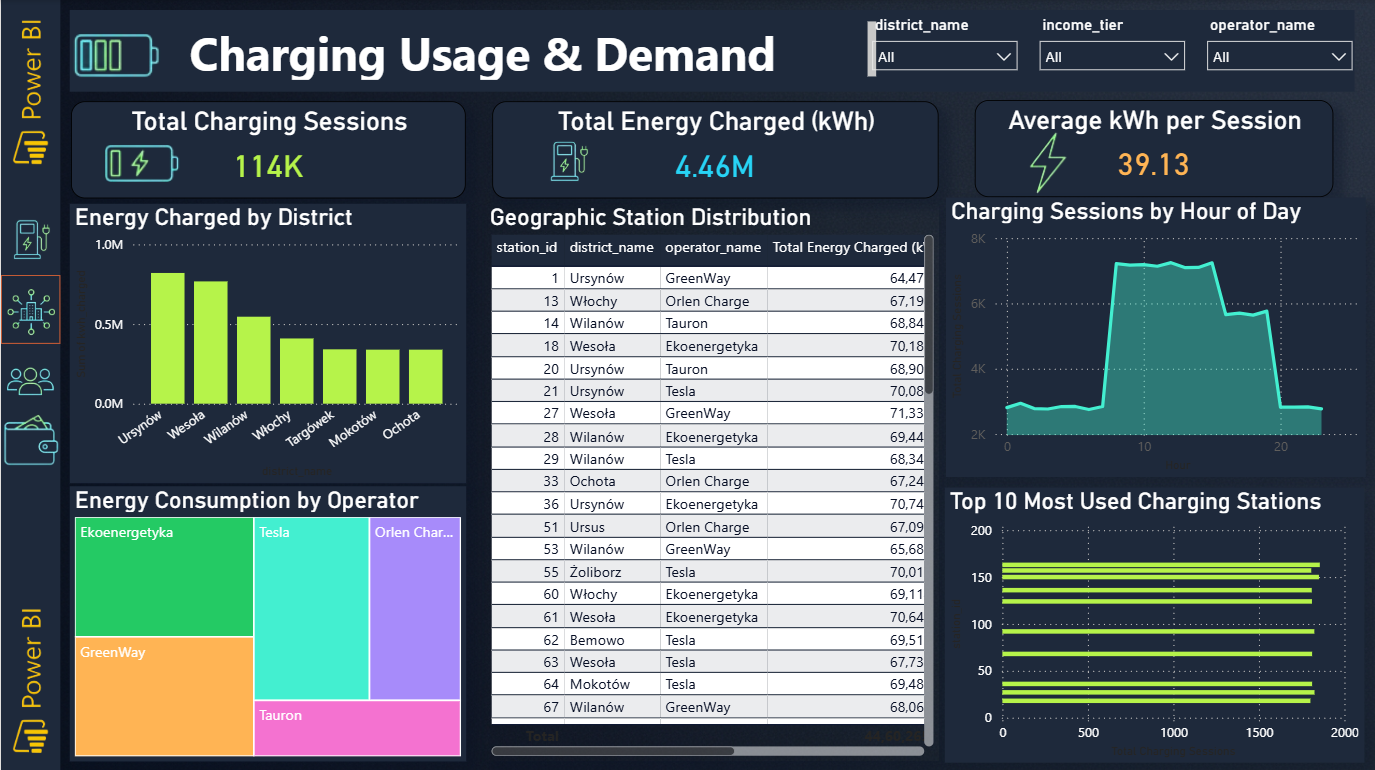

What the dashboard file says about the page in this screenshot:
{"tool":"powerbi","page":{"name":"Charging Usage & Demand","canvas":[1280,720],"ordinal":1},"visuals":[{"type":"shape","box":[0,0,55.5,720.2],"z":0},{"type":"shape","box":[63.9,9.7,1195.6,76],"z":1000},{"type":"textbox","box":[96.5,15.7,722.7,63.9],"z":2000},{"type":"slicer","fields":{"Values":["districts.district_name"]},"box":[799.9,9.7,155.6,65.1],"z":3000},{"type":"slicer","fields":{"Values":["districts.income_tier"]},"box":[955.5,9.7,155.6,65.1],"z":4000},{"type":"slicer","fields":{"Values":["charging_stations.operator_name"]},"box":[1111.1,9.7,155.6,65.1],"z":5000},{"type":"image","box":[8.4,547.7,55.5,172.5],"z":6000},{"type":"image","box":[8.4,0,55.5,172.5],"z":7000},{"type":"card","title":"Total Charging Sessions ","fields":{"Values":["charging_sessions.Total Charging Sessions"]},"box":[65,93.8,367.5,90],"z":8000},{"type":"card","title":"Total Energy Charged (kWh)","fields":{"Values":["charging_sessions.Total Energy Charged (kWh)"]},"box":[457.5,93.8,415,90],"z":9000},{"type":"card","title":"Average kWh per Session","fields":{"Values":["charging_sessions.Avg kWh Per Session"]},"box":[906.2,92.5,333.8,90],"z":10000},{"type":"image","box":[86.2,111.2,83.8,80],"z":11000},{"type":"image","box":[932.5,120,83.8,62.5],"z":12000},{"type":"image","box":[0,191.8,55.5,63.9],"z":13000},{"type":"image","box":[0,255.8,55.5,63.9],"z":14000},{"type":"image","box":[0,324.5,55.5,63.9],"z":15000},{"type":"image","box":[0,377.6,55.5,63.9],"z":16000},{"type":"clusteredColumnChart","title":"Energy Charged by District","fields":{"Category":["charging_stations.district_name"],"Y":["Sum(charging_sessions.kwh_charged)"]},"box":[63.8,190,368.8,260],"z":17000},{"type":"tableEx","title":"Geographic Station Distribution","fields":{"Values":["charging_stations.station_id","charging_stations.district_name","charging_stations.operator_name","charging_sessions.Total Energy Charged (kWh)","charging_sessions.Total Charging Sessions","charging_sessions.Avg kWh Per Session"]},"box":[450,190,422.5,518.8],"z":18000},{"type":"areaChart","title":"Charging Sessions by Hour of Day","fields":{"Category":["charging_sessions.Hour"],"Y":["charging_sessions.Total Charging Sessions"]},"box":[878.8,183.8,390,260],"z":19000},{"type":"treemap","title":"Energy Consumption by Operator","fields":{"Group":["charging_stations.operator_name"],"Values":["charging_sessions.Total Energy Charged (kWh)"]},"box":[63.8,452.5,368.8,256.2],"z":20000},{"type":"image","box":[65,10,83.8,80],"z":21000},{"type":"image","box":[500,118.8,55,65],"z":22000},{"type":"clusteredBarChart","title":"Top 10 Most Used Charging Stations","fields":{"Category":["charging_stations.station_id"],"Y":["charging_sessions.Total Charging Sessions"]},"box":[878,453,390,256],"z":23000}]}

Visuals, with their boxes on the page's 1280x720 design canvas (x1, y1, x2, y2). These are canvas units, not pixel positions in the 1375x770 screenshot, which may show the page scaled, cropped or inside an application window:
shape: bbox=[0, 0, 56, 720]
shape: bbox=[64, 10, 1260, 86]
textbox: bbox=[96, 16, 819, 80]
slicer - districts.district_name: bbox=[800, 10, 956, 75]
slicer - districts.income_tier: bbox=[956, 10, 1111, 75]
slicer - charging_stations.operator_name: bbox=[1111, 10, 1267, 75]
image: bbox=[8, 548, 64, 720]
image: bbox=[8, 0, 64, 172]
"Total Charging Sessions " card: bbox=[65, 94, 432, 184]
"Total Energy Charged (kWh)" card: bbox=[458, 94, 872, 184]
"Average kWh per Session" card: bbox=[906, 92, 1240, 182]
image: bbox=[86, 111, 170, 191]
image: bbox=[932, 120, 1016, 182]
image: bbox=[0, 192, 56, 256]
image: bbox=[0, 256, 56, 320]
image: bbox=[0, 324, 56, 388]
image: bbox=[0, 378, 56, 442]
"Energy Charged by District" clusteredColumnChart: bbox=[64, 190, 433, 450]
"Geographic Station Distribution" tableEx: bbox=[450, 190, 872, 709]
"Charging Sessions by Hour of Day" areaChart: bbox=[879, 184, 1269, 444]
"Energy Consumption by Operator" treemap: bbox=[64, 452, 433, 709]
image: bbox=[65, 10, 149, 90]
image: bbox=[500, 119, 555, 184]
"Top 10 Most Used Charging Stations" clusteredBarChart: bbox=[878, 453, 1268, 709]
